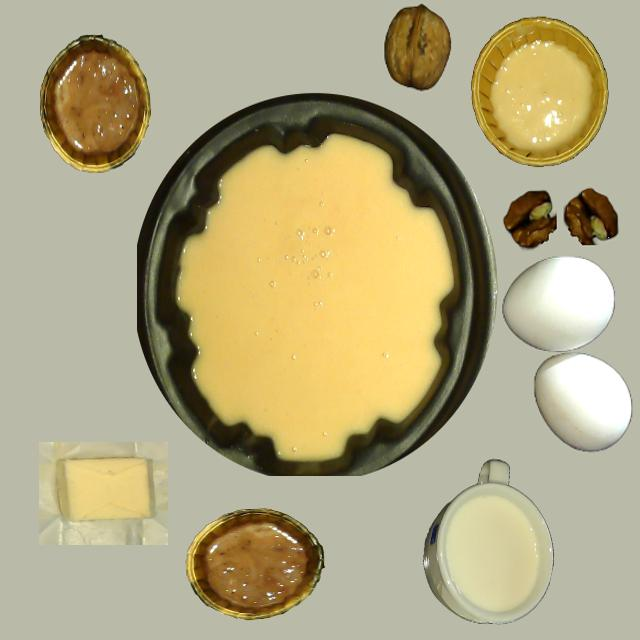Milk: (450, 500, 534, 607)
Walnut: (384, 5, 450, 91)
